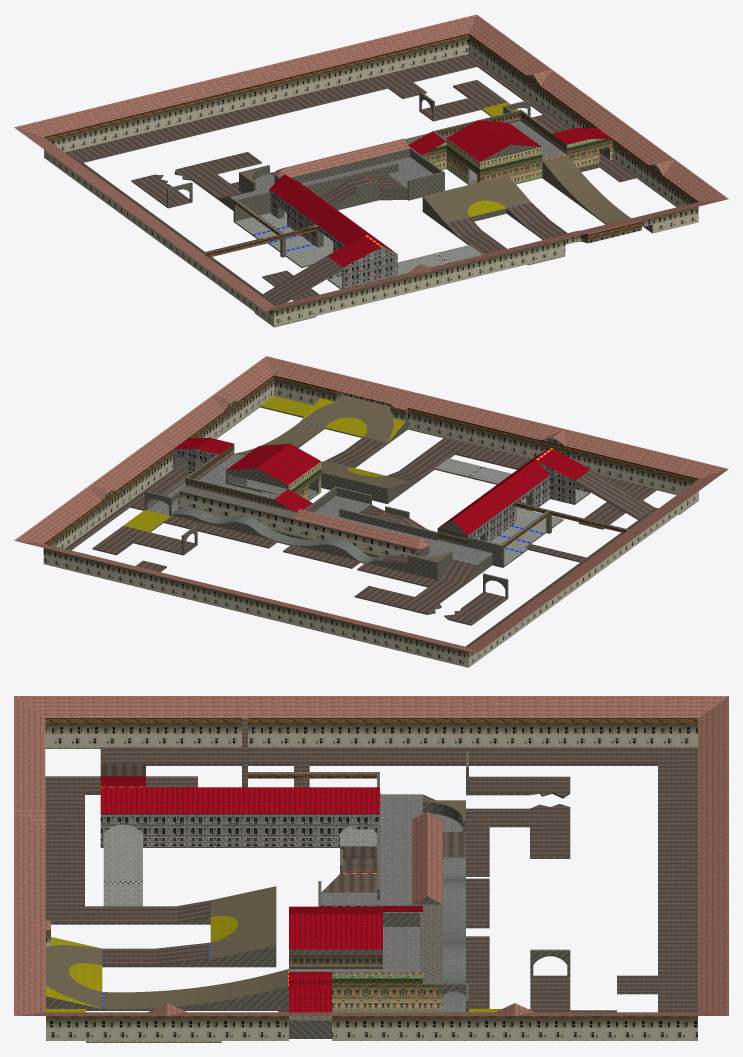
3 views of the same model, one above another, from view 1: azimuth 30°, elevation 25°; view 2: azimuth 150°, elevation 25°; view 3: azimuth 270°, elevation 25° (orthographic). The views are drawn at different scales.
Visible parts, largest first — view 1: DB17_Main-facade1.001, DB17_Main-roof.001, DB17_Main-woodroad1.001, DB17_Main-wall1.001, DB17_Main-roof1.001, DB17_Main-road3.001, DB17_Main-facade2.001, DB17_Main-road1.001, DB17_Main-facad.001, DB17_Main-road2.001, DB17_Main-facade3.001, DB17_Main-grass.001; view 2: DB17_Main-facade1.001, DB17_Main-roof.001, DB17_Main-woodroad1.001, DB17_Main-wall1.001, DB17_Main-roof1.001, DB17_Main-road3.001, DB17_Main-facade4.001, DB17_Main-road2.001, DB17_Main-facad.001, DB17_Main-road1.001, DB17_Main-grass.001, DB17_Main-raod4.001 (+2 smaller); view 3: DB17_Main-woodroad1.001, DB17_Main-roof.001, DB17_Main-facade1.001, DB17_Main-roof1.001, DB17_Main-wall1.001, DB17_Main-road3.001, DB17_Main-facad.001, DB17_Main-road2.001, DB17_Main-facade2.001, DB17_Main-road1.001, DB17_Main-raod4.001, DB17_Main-grass.001 (+1 smaller).
Boxes of the visible parts, x1,y1,x2,y2 form: DB17_Main-facade1.001: (44, 33, 698, 327); DB17_Main-roof.001: (14, 14, 728, 311); DB17_Main-woodroad1.001: (65, 54, 636, 305); DB17_Main-wall1.001: (83, 65, 652, 303); DB17_Main-roof1.001: (269, 120, 612, 267); DB17_Main-road3.001: (239, 155, 630, 224); DB17_Main-facade2.001: (422, 138, 612, 184); DB17_Main-road1.001: (235, 211, 482, 288); DB17_Main-facad.001: (269, 189, 397, 288); DB17_Main-road2.001: (230, 120, 566, 200); DB17_Main-facade3.001: (436, 111, 566, 153); DB17_Main-grass.001: (468, 102, 518, 216); DB17_Main-facade1.001: (43, 375, 698, 667); DB17_Main-roof.001: (14, 356, 728, 653); DB17_Main-woodroad1.001: (65, 437, 658, 647); DB17_Main-wall1.001: (70, 406, 679, 625); DB17_Main-roof1.001: (173, 438, 590, 534); DB17_Main-road3.001: (235, 395, 451, 562); DB17_Main-facade4.001: (101, 400, 564, 556); DB17_Main-road2.001: (147, 453, 492, 564); DB17_Main-facad.001: (173, 449, 589, 541); DB17_Main-road1.001: (435, 458, 589, 565); DB17_Main-grass.001: (123, 396, 405, 531); DB17_Main-raod4.001: (172, 508, 387, 562); DB17_Main-woodroad1.001: (45, 718, 697, 1012); DB17_Main-roof.001: (14, 696, 728, 1015); DB17_Main-facade1.001: (45, 718, 697, 1042); DB17_Main-roof1.001: (100, 776, 422, 1012); DB17_Main-wall1.001: (46, 750, 657, 1038); DB17_Main-road3.001: (46, 800, 465, 1009); DB17_Main-facad.001: (100, 814, 382, 906); DB17_Main-road2.001: (289, 793, 465, 1012); DB17_Main-facade2.001: (332, 973, 442, 1010); DB17_Main-road1.001: (103, 824, 376, 906); DB17_Main-raod4.001: (443, 857, 465, 1010); DB17_Main-grass.001: (46, 916, 530, 1012).
Bounding box in the file's own units: 76150 × 6463 × 71889.
17 materials, 17 textured.
